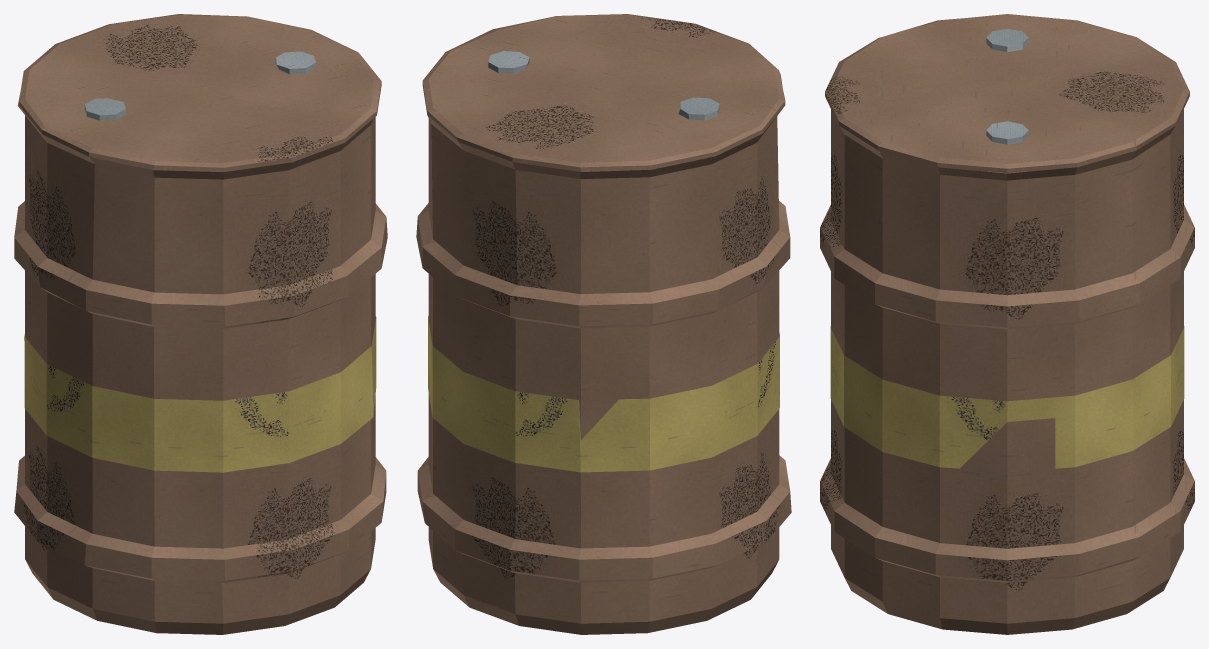
File: barrel_v4.glb
3 renders of one model, left to right at view 1: azimuth 30°, elevation 25°; view 2: azimuth 150°, elevation 25°; view 3: azimuth 270°, elevation 25°, orthographic.
Parts seen in each view (by area): view 1: Variant_barrel_4; view 2: Variant_barrel_4; view 3: Variant_barrel_4.
Boxes of the visible parts, left/top/right/bottom form: Variant_barrel_4: left=14, top=14, right=387, bottom=634; Variant_barrel_4: left=416, top=14, right=791, bottom=634; Variant_barrel_4: left=820, top=14, right=1194, bottom=634.
Size of the model in its own units: 0.6174 by 0.87 by 0.616.
3 materials, 3 textured.
